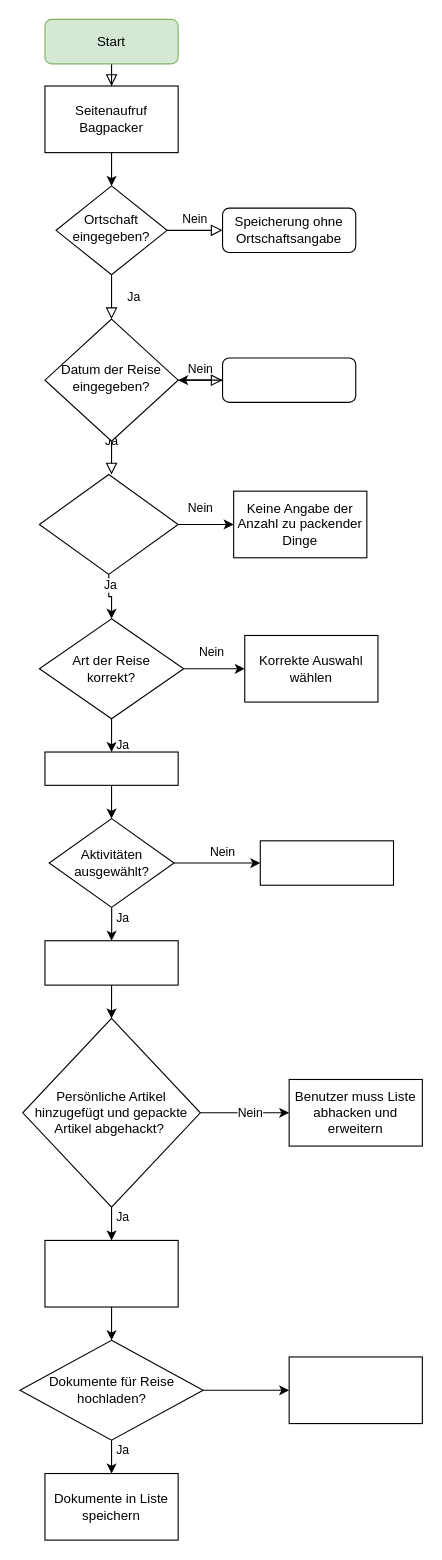
Image size: 442x1560. Some labels were removed from this diagram. Here are the shapes that lost their labels. From the top down, the centre of each, then its label:
point 288,379: Speicherung ohne Datum
point 108,523: Länge der Reise angegeben?
point 111,768: Wähle Aktivität aus
point 326,862: Liste ohne Aktivitäten laden
point 111,962: Beginnen zu packen / Liste laden
point 111,1273: Gepackte Liste mit Ort und Datum speichern
point 355,1390: Liste ohne Reisedokumente speichern
